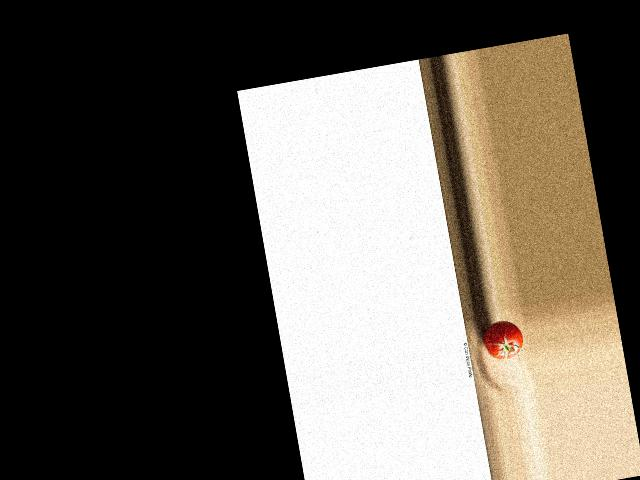tomato: (481, 318, 525, 362)
